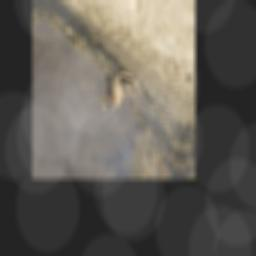Swallow: (97, 64, 158, 123)
